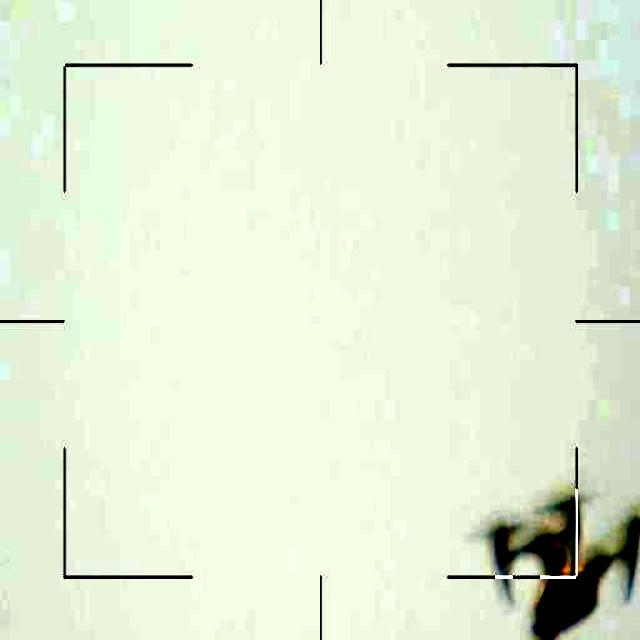bird: (482, 488, 640, 640)
